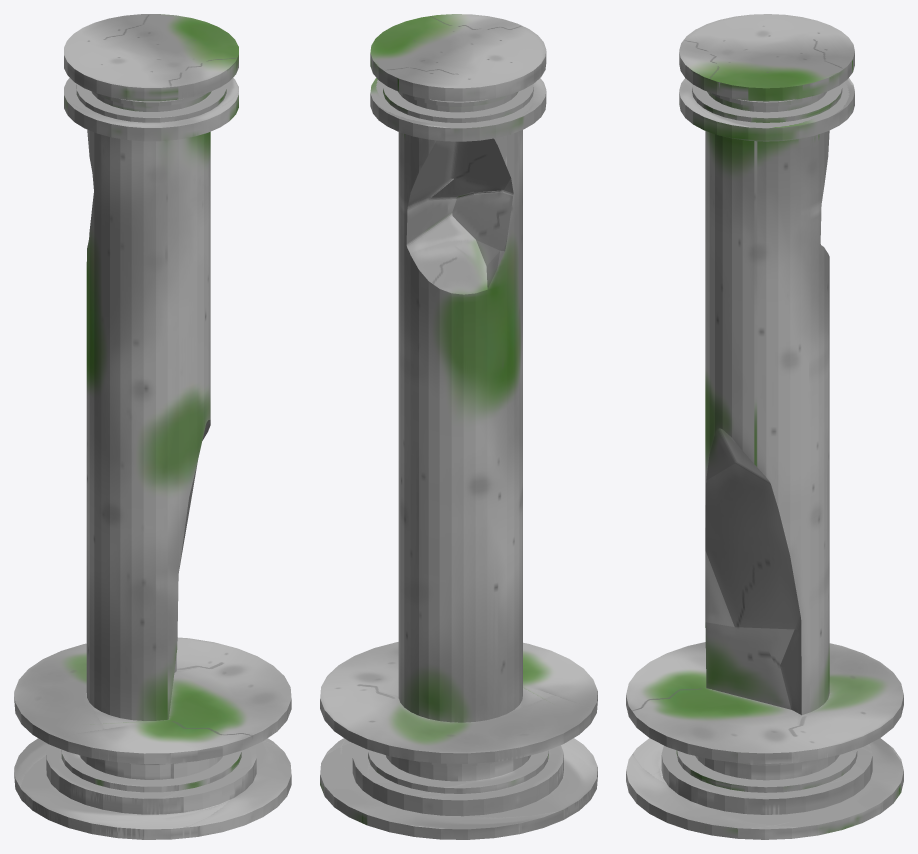
Rendered from colone2.fbx.
The picture shows the model from 3 angles, left to right: view 1: azimuth 30°, elevation 25°; view 2: azimuth 150°, elevation 25°; view 3: azimuth 270°, elevation 25°; orthographic projection.
Parts seen in each view (by area): view 1: Cylindre.003; view 2: Cylindre.003; view 3: Cylindre.003.
Boxes of the visible parts, x1,y1,x2,y2 form: Cylindre.003: (14, 14, 291, 839); Cylindre.003: (320, 14, 597, 839); Cylindre.003: (626, 14, 903, 839).
Bounding box in the file's own units: 641 × 1858 × 641.
